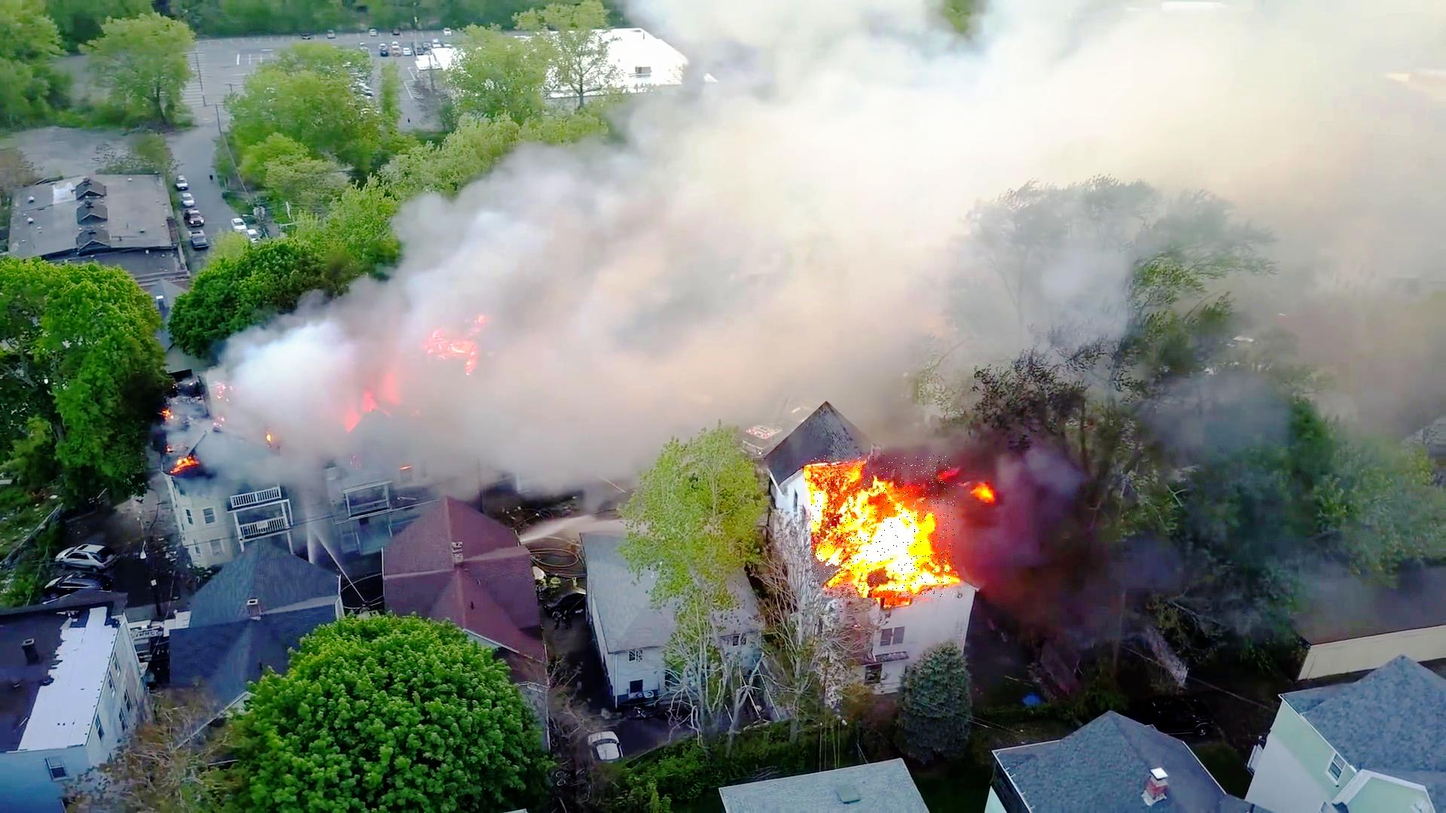fire: (812, 456, 956, 598)
